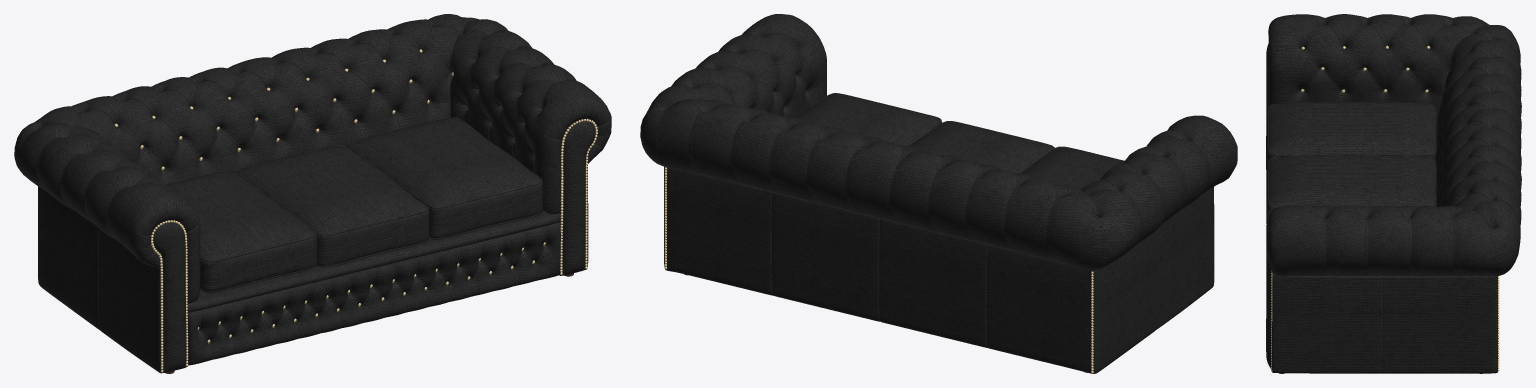
Rendered from fabric.glb.
3 views of the same model, side by side, from view 1: azimuth 30°, elevation 25°; view 2: azimuth 150°, elevation 25°; view 3: azimuth 270°, elevation 25° (orthographic). The views are drawn at different scales.
Visible parts, largest first — view 1: polySurface2, Metal; view 2: polySurface2, Metal; view 3: polySurface2, Metal.
Boxes of the visible parts, <box> form: polySurface2: <box>14,14,611,373</box>; Metal: <box>114,49,597,372</box>; polySurface2: <box>640,14,1237,373</box>; Metal: <box>664,167,1093,373</box>; polySurface2: <box>1266,14,1521,373</box>; Metal: <box>1271,45,1499,371</box>.
Size of the model in its own units: 1.88 by 0.6652 by 0.915.
Materials: 3 (2 with a texture image).
